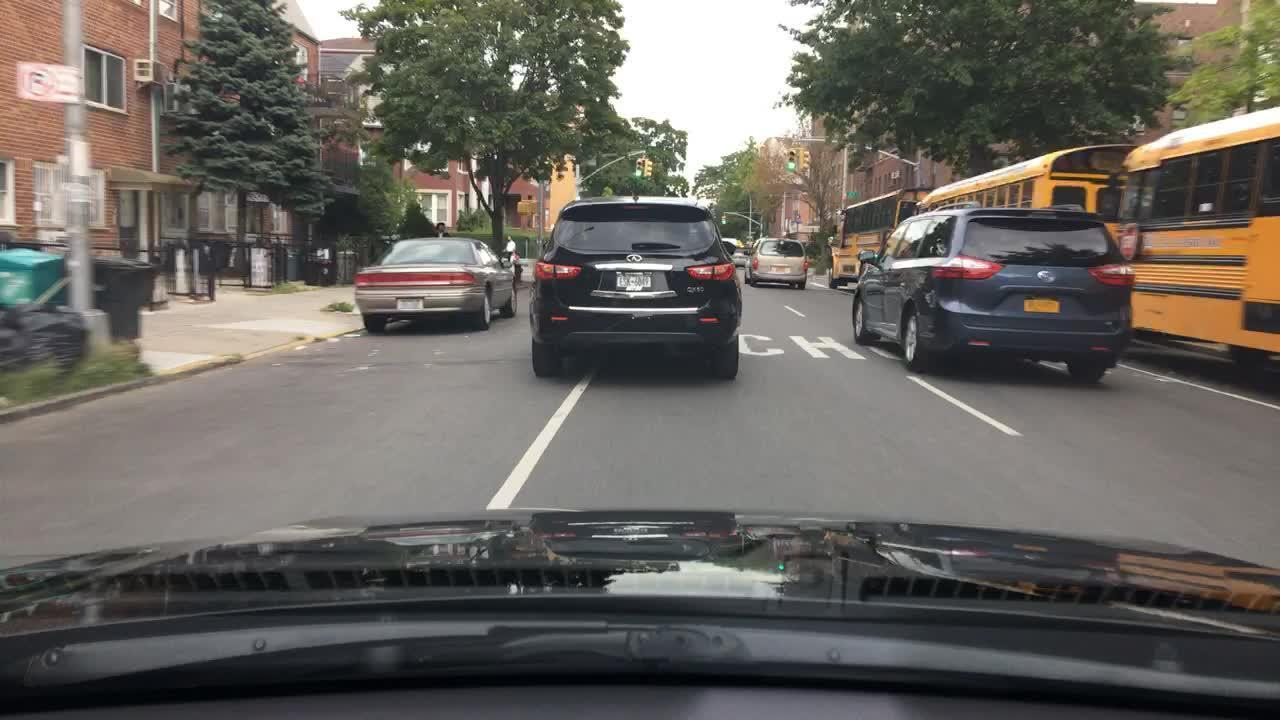Infiniti: (625, 254, 645, 263)
